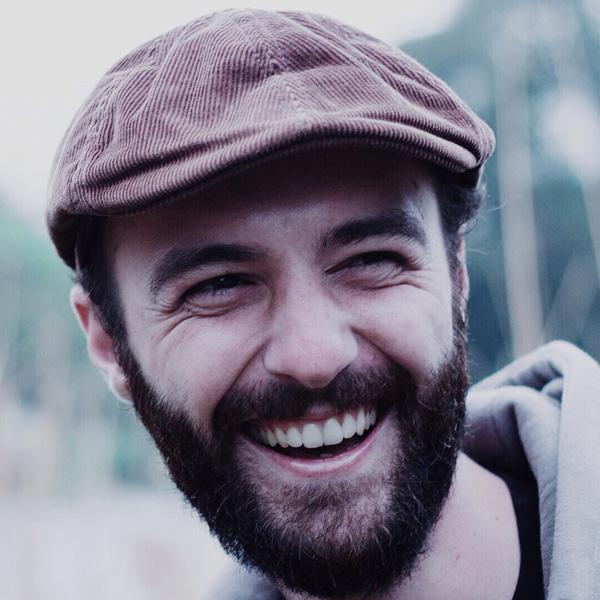Eyes: (322, 238, 420, 294), (175, 261, 271, 315)
